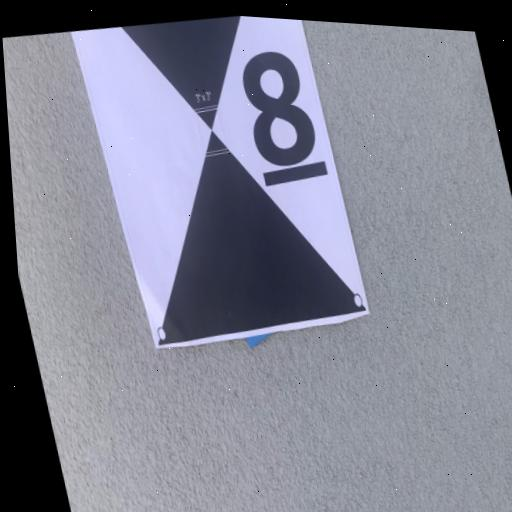target8: (71, 16, 369, 351)
